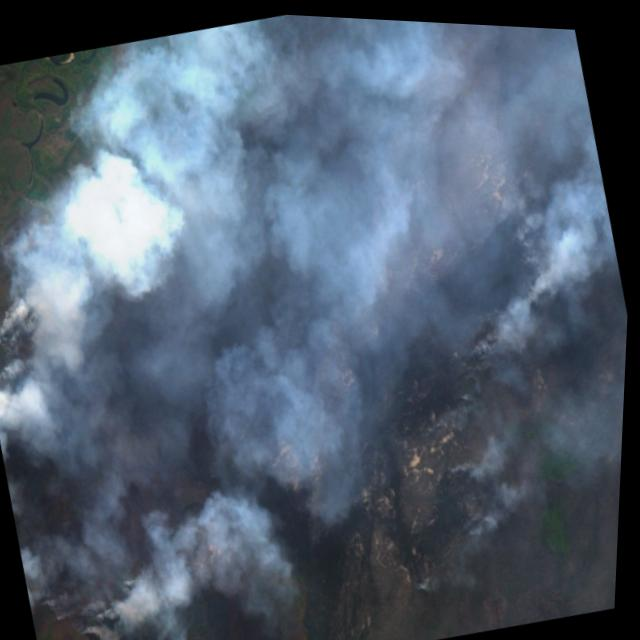fire: (326, 169, 631, 607), (0, 232, 239, 640)
